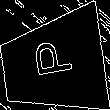P_W: (30, 42, 77, 86)
